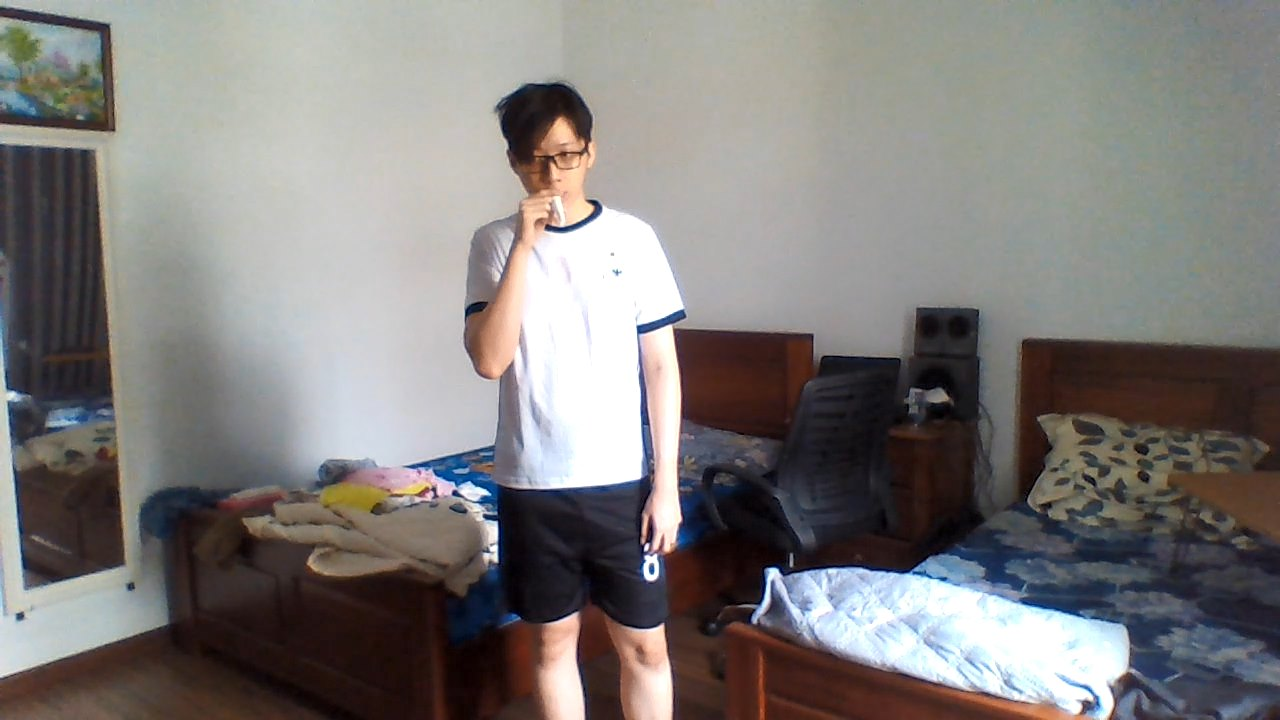cigarette: (551, 193, 571, 230)
person: (451, 78, 703, 720)
